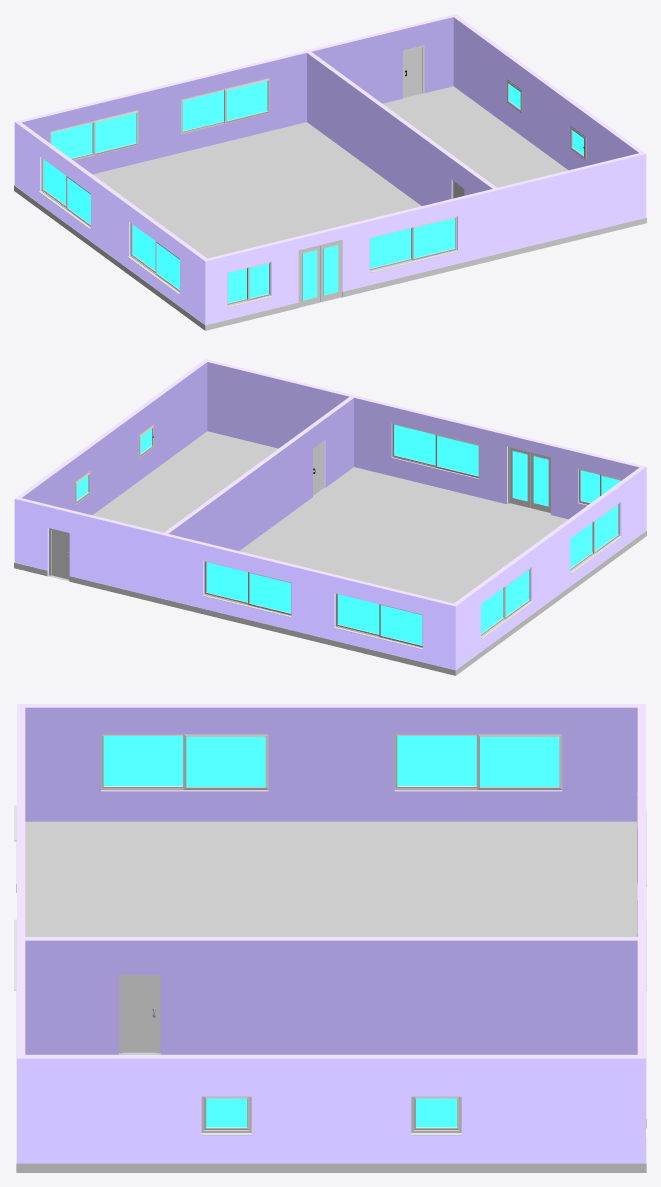
The model's file is Restaurant Final.fbx.
3 renders of one model, top to bottom at view 1: azimuth 30°, elevation 25°; view 2: azimuth 150°, elevation 25°; view 3: azimuth 270°, elevation 25°, orthographic. The views are drawn at different scales.
Parts seen in each view (by area): view 1: Building, Window.R.004, Window.R.005, Window.L.002, Window.L.005, Window.R.002, Door.003, Window.L.004, Door, Door.002, Window.L.003, Window.L.001 (+4 smaller); view 2: Building, Window.R.002, Window.L.004, Window.L.005, Window.L.002, Window.R.004, Window.R.005, Door.003, Door, Window.L.001, Window.L.003, Door.002 (+4 smaller); view 3: Building, Window.R.001, Window.R.003, Window.L.001, Window.L.003, Door.001, Window.L.006, Window.L.007, DoorFrame.001.
Part boxes in pixels (box(x1,y1,x2,y2)): Building: box(14, 14, 646, 330); Window.R.004: box(93, 110, 138, 155); Window.R.005: box(224, 78, 269, 123); Window.L.002: box(412, 216, 456, 260); Window.L.005: box(182, 90, 224, 132); Window.R.002: box(369, 227, 411, 269); Door.003: box(320, 241, 341, 301); Window.L.004: box(51, 122, 93, 159); Door: box(299, 246, 319, 307); Door.002: box(404, 47, 422, 97); Window.L.003: box(66, 176, 90, 226); Window.L.001: box(155, 241, 179, 291); Building: box(14, 359, 646, 675); Window.R.002: box(435, 434, 479, 478); Window.L.004: box(379, 604, 422, 647); Window.L.005: box(248, 572, 291, 614); Window.L.002: box(393, 423, 435, 466); Window.R.004: box(336, 593, 379, 635); Window.R.005: box(205, 561, 247, 603); Door.003: box(510, 448, 530, 507); Door: box(531, 453, 550, 512); Window.L.001: box(593, 503, 619, 553); Window.L.003: box(504, 568, 530, 619); Door.002: box(51, 530, 68, 579); Building: box(16, 704, 646, 1172); Window.R.001: box(183, 734, 268, 789); Window.R.003: box(477, 734, 562, 789); Window.L.001: box(102, 734, 183, 788); Window.L.003: box(395, 734, 476, 788); Door.001: box(123, 977, 156, 1052); Window.L.006: box(204, 1097, 249, 1129); Window.L.007: box(413, 1097, 458, 1129); DoorFrame.001: box(119, 975, 160, 1053).
Bounding box in the file's own units: 2009 × 300 × 1509.
